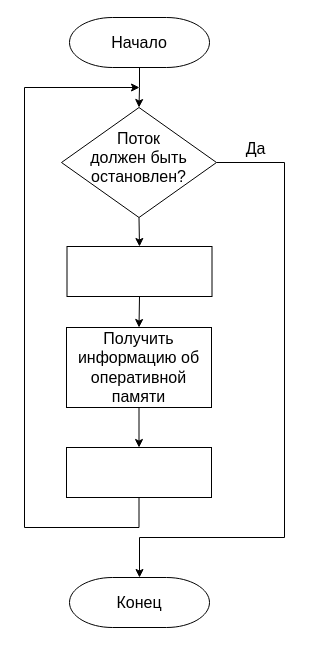
This 310x645 diagram has some shape labels left out. The box of each missing label's shape, as (x1, y1, x2, y2) in pixels:
Заснуть на 1 секунду: (66, 446, 212, 498)
Инициализировать struct sysinfo: (66, 246, 212, 296)
